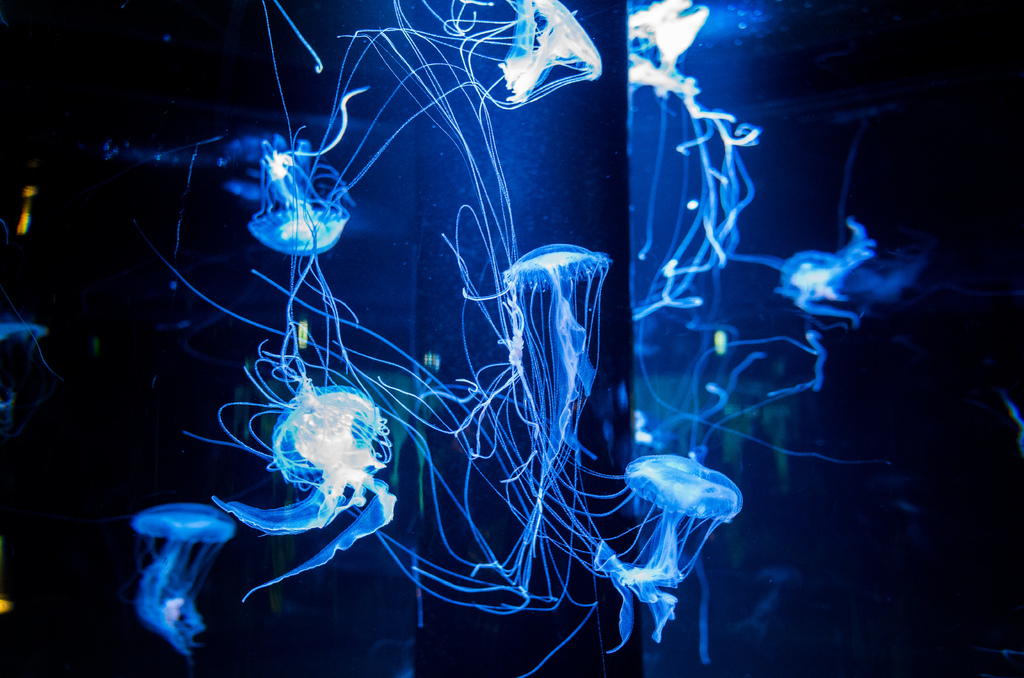Jellyfish: (305, 0, 593, 199), (461, 243, 618, 607), (208, 384, 406, 601), (616, 453, 745, 596), (132, 501, 234, 654), (243, 133, 351, 258)
